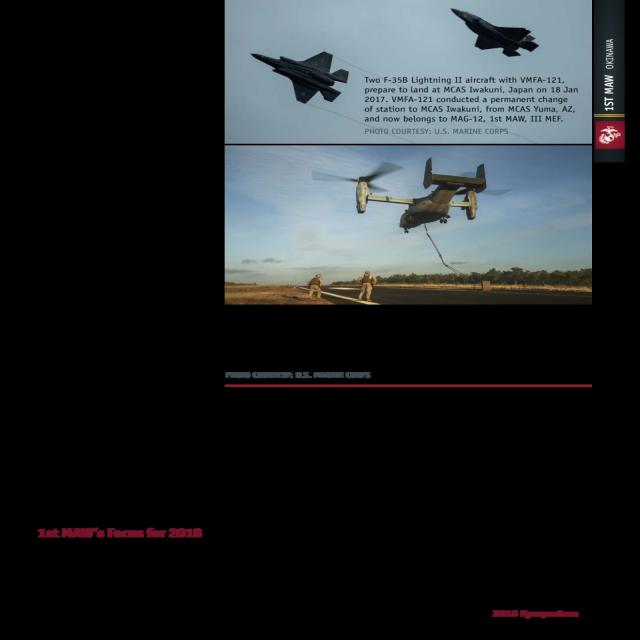MIL_Plane: (311, 156, 512, 234), (250, 51, 349, 105), (450, 8, 540, 57)
